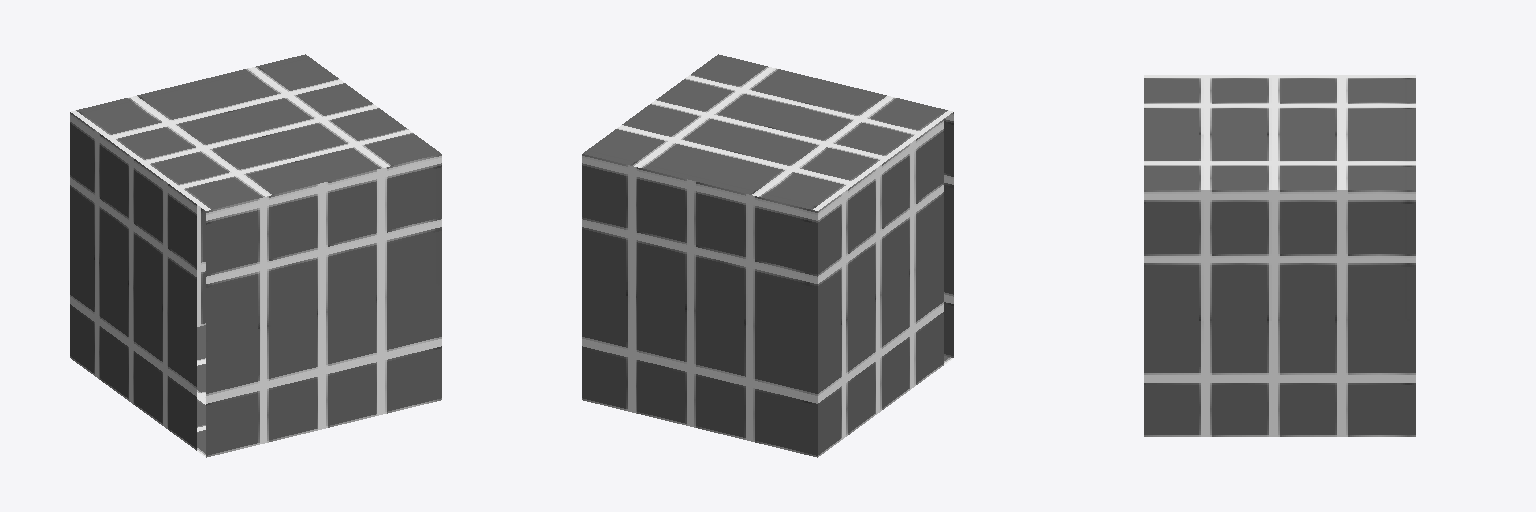
3 views of the same model, side by side, from view 1: azimuth 30°, elevation 25°; view 2: azimuth 150°, elevation 25°; view 3: azimuth 270°, elevation 25° (orthographic).
Visible parts, largest first — view 1: Cube; view 2: Cube; view 3: Cube.
Part boxes in pixels (bbox=[...]): Cube: bbox=[70, 54, 441, 457]; Cube: bbox=[582, 54, 953, 457]; Cube: bbox=[1144, 75, 1415, 436].
Bounding box in the file's own units: 2 × 2 × 2.
1 materials, 1 textured.